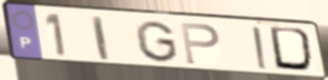1: (44, 12, 69, 59)
D: (267, 25, 320, 75)
G: (133, 19, 181, 64)
I: (89, 14, 112, 62), (250, 25, 271, 71)
P: (178, 20, 222, 66)
